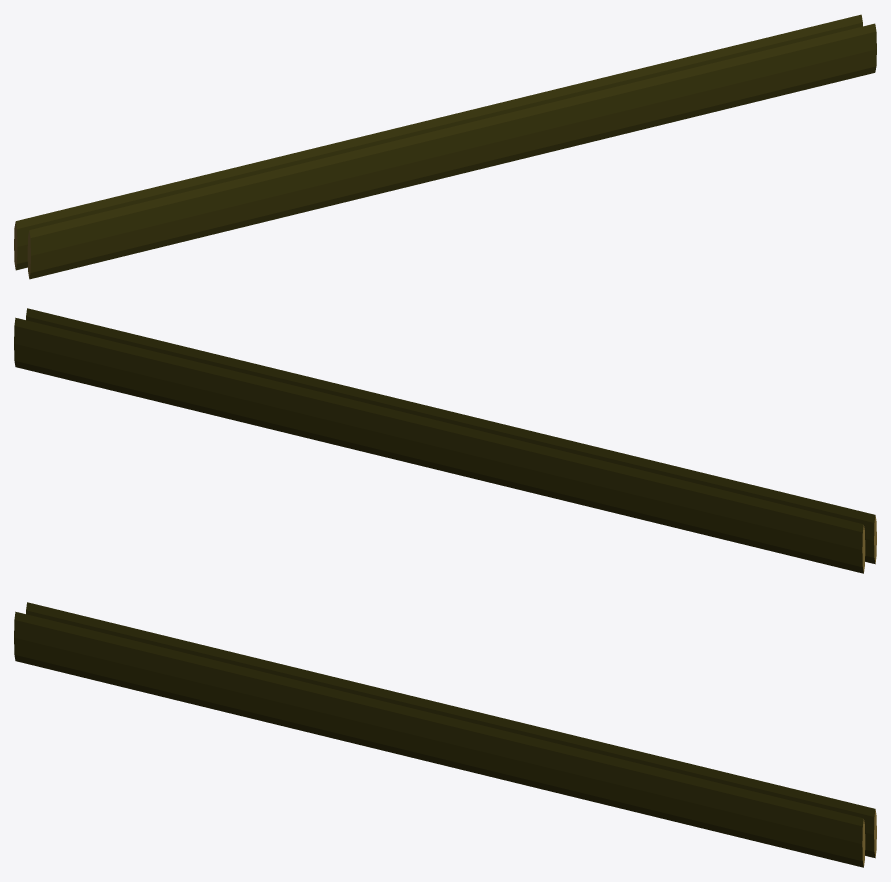
The picture shows the model from 3 angles, top to bottom: view 1: azimuth 30°, elevation 25°; view 2: azimuth 150°, elevation 25°; view 3: azimuth 330°, elevation 25°; orthographic projection.
Parts seen in each view (by area): view 1: Cylinder.009; view 2: Cylinder.009; view 3: Cylinder.009.
Boxes of the visible parts, bbox=[...] form: Cylinder.009: bbox=[14, 14, 876, 279]; Cylinder.009: bbox=[14, 308, 876, 573]; Cylinder.009: bbox=[14, 602, 876, 867].
Size of the model in its own units: 95.25 by 5.3 by 3.14.
